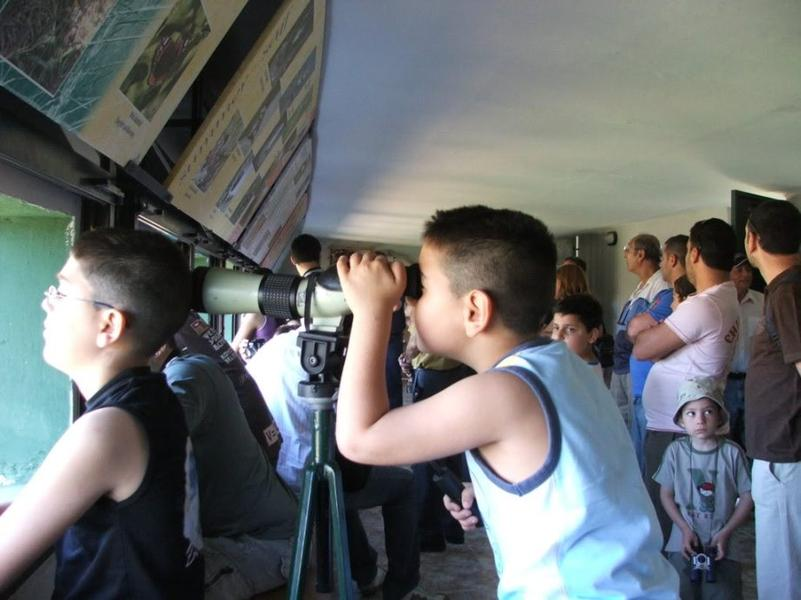person: (333, 207, 680, 599)
